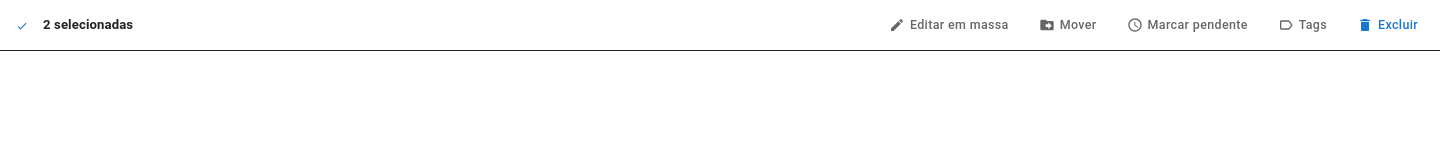
Scenario: BulkActionBar › Tags: o botão único do frame mantém adicionar E remover
This screenshot has width=1440, height=160.
Click the button "Tags".
click(1302, 25)  # box [1270,10,1335,40]
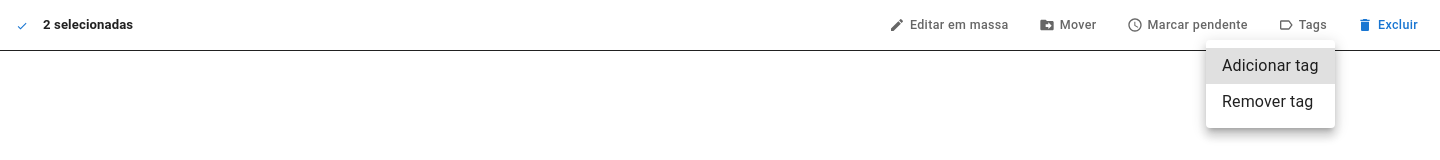
Now the menu item "Adicionar tag" is shown, box [1206,48,1334,84]
Now the menu item "Remover tag" is shown, box [1222,92,1314,111]
